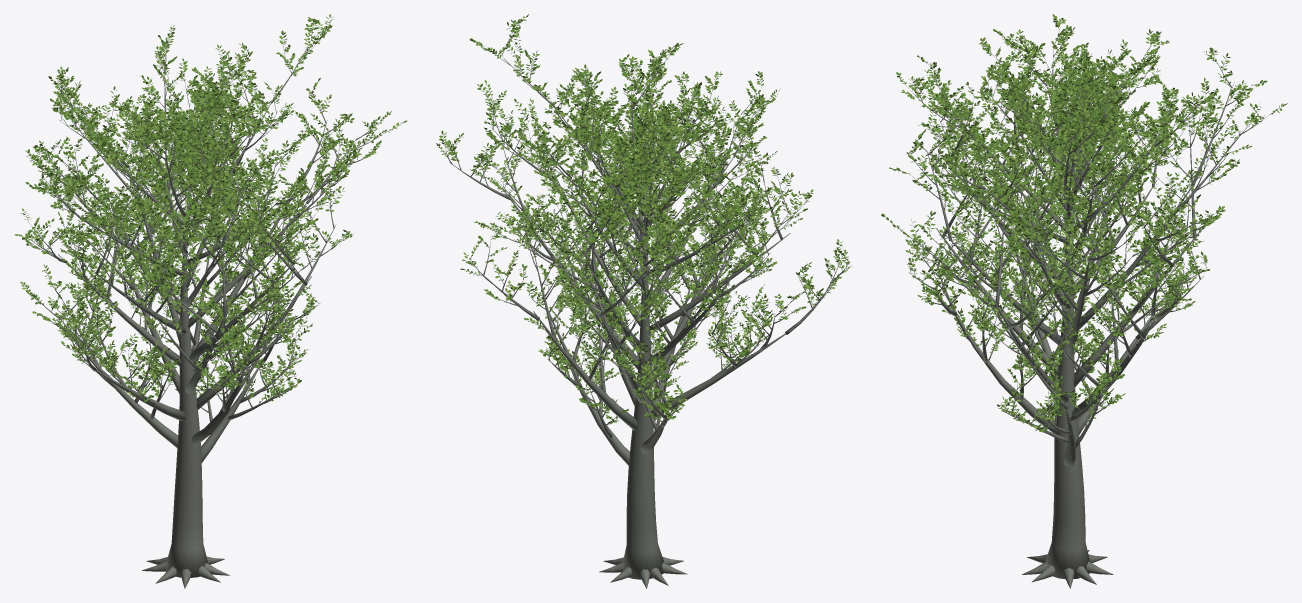
File: Beech_Mature_01_Unpruned_LOD0.fbx
3 renders of one model, left to right at view 1: azimuth 30°, elevation 25°; view 2: azimuth 150°, elevation 25°; view 3: azimuth 270°, elevation 25°, orthographic. The views are drawn at different scales.
Parts seen in each view (by area): view 1: Beech_Mature_01_Unpruned_LOD0; view 2: Beech_Mature_01_Unpruned_LOD0; view 3: Beech_Mature_01_Unpruned_LOD0.
Boxes of the visible parts, x1=… form: Beech_Mature_01_Unpruned_LOD0: x1=14, y1=14, x2=407, y2=588; Beech_Mature_01_Unpruned_LOD0: x1=436, y1=14, x2=851, y2=588; Beech_Mature_01_Unpruned_LOD0: x1=881, y1=14, x2=1287, y2=588.
Bounding box in the file's own units: 1794 × 2506 × 1648.
Materials: 5 (1 with a texture image).
